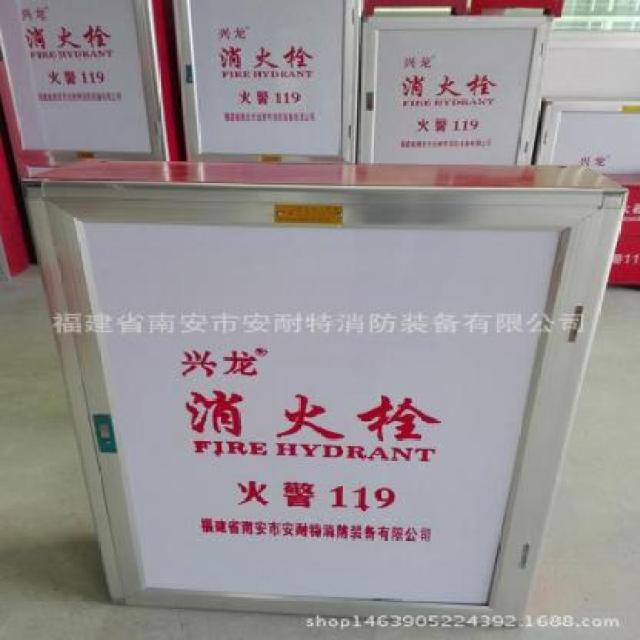firehydrant: (17, 154, 631, 634), (166, 0, 362, 165), (358, 8, 558, 165), (0, 0, 174, 179), (534, 94, 640, 174), (606, 176, 640, 290)
